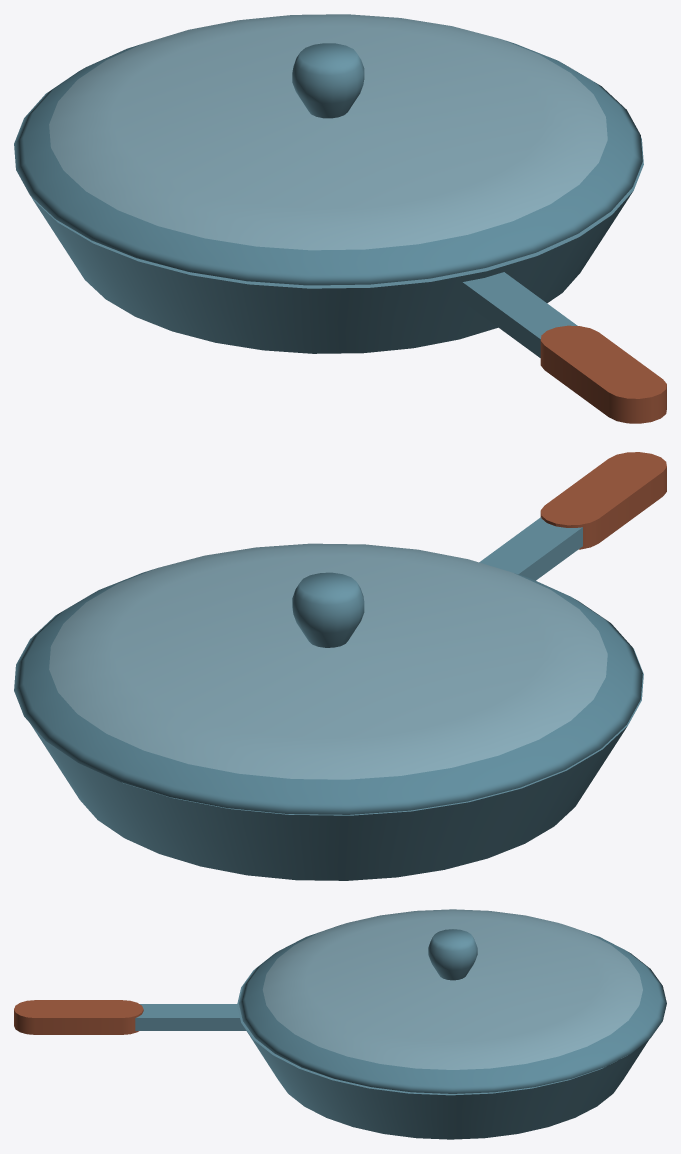
The model's file is Frying Pan A.fbx.
3 views of the same model, one above another, from view 1: azimuth 30°, elevation 25°; view 2: azimuth 150°, elevation 25°; view 3: azimuth 270°, elevation 25° (orthographic). The views are drawn at different scales.
Parts seen in each view (by area): view 1: Frying Pan.001, Frying Pan; view 2: Frying Pan.001, Frying Pan; view 3: Frying Pan.001, Frying Pan.
Part boxes in pixels (x1,y1,x2,y2): Frying Pan.001: [14, 14, 642, 285]; Frying Pan: [31, 137, 666, 423]; Frying Pan.001: [14, 543, 642, 814]; Frying Pan: [30, 452, 666, 880]; Frying Pan.001: [239, 909, 666, 1093]; Frying Pan: [14, 970, 649, 1139].
Bounding box in the file's own units: 0.6214 × 0.2045 × 0.9476.
